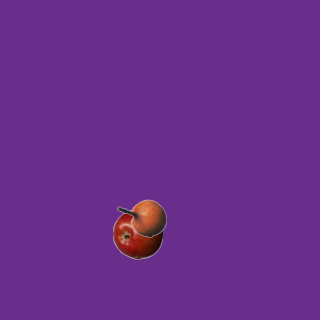Apple Braeburn: (112, 209, 162, 259)
Granadilla: (116, 193, 166, 243)
